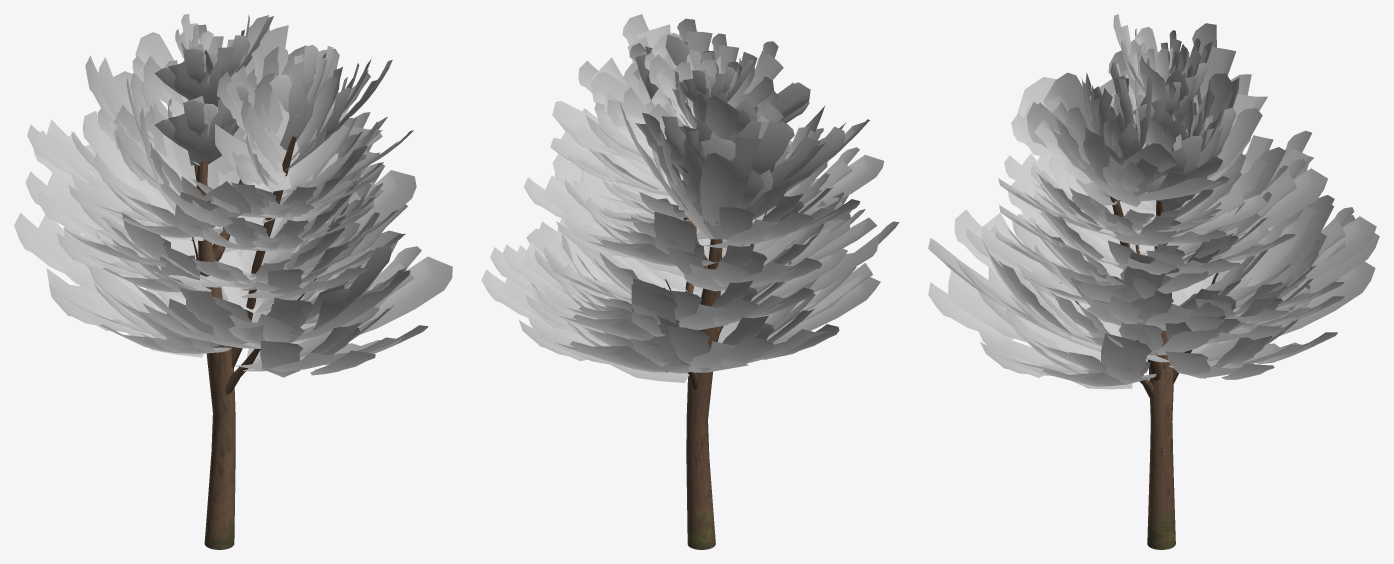
Rendered from Maple_2.fbx.
3 renders of one model, left to right at view 1: azimuth 30°, elevation 25°; view 2: azimuth 150°, elevation 25°; view 3: azimuth 270°, elevation 25°, orthographic. The views are drawn at different scales.
Visible parts, largest first — view 1: pPlane103; view 2: pPlane103; view 3: pPlane103.
Boxes of the visible parts, <box> form: pPlane103: <box>14,14,452,549</box>; pPlane103: <box>481,14,899,549</box>; pPlane103: <box>928,14,1379,549</box>.
Size of the model in its own units: 342 by 490 by 398.
